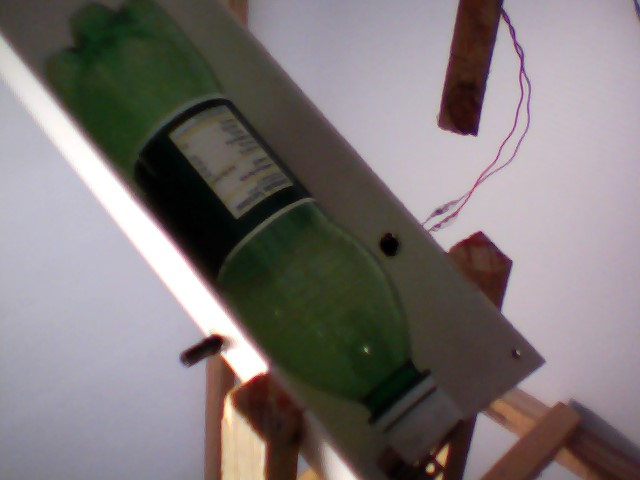plastico: (35, 1, 468, 466)
